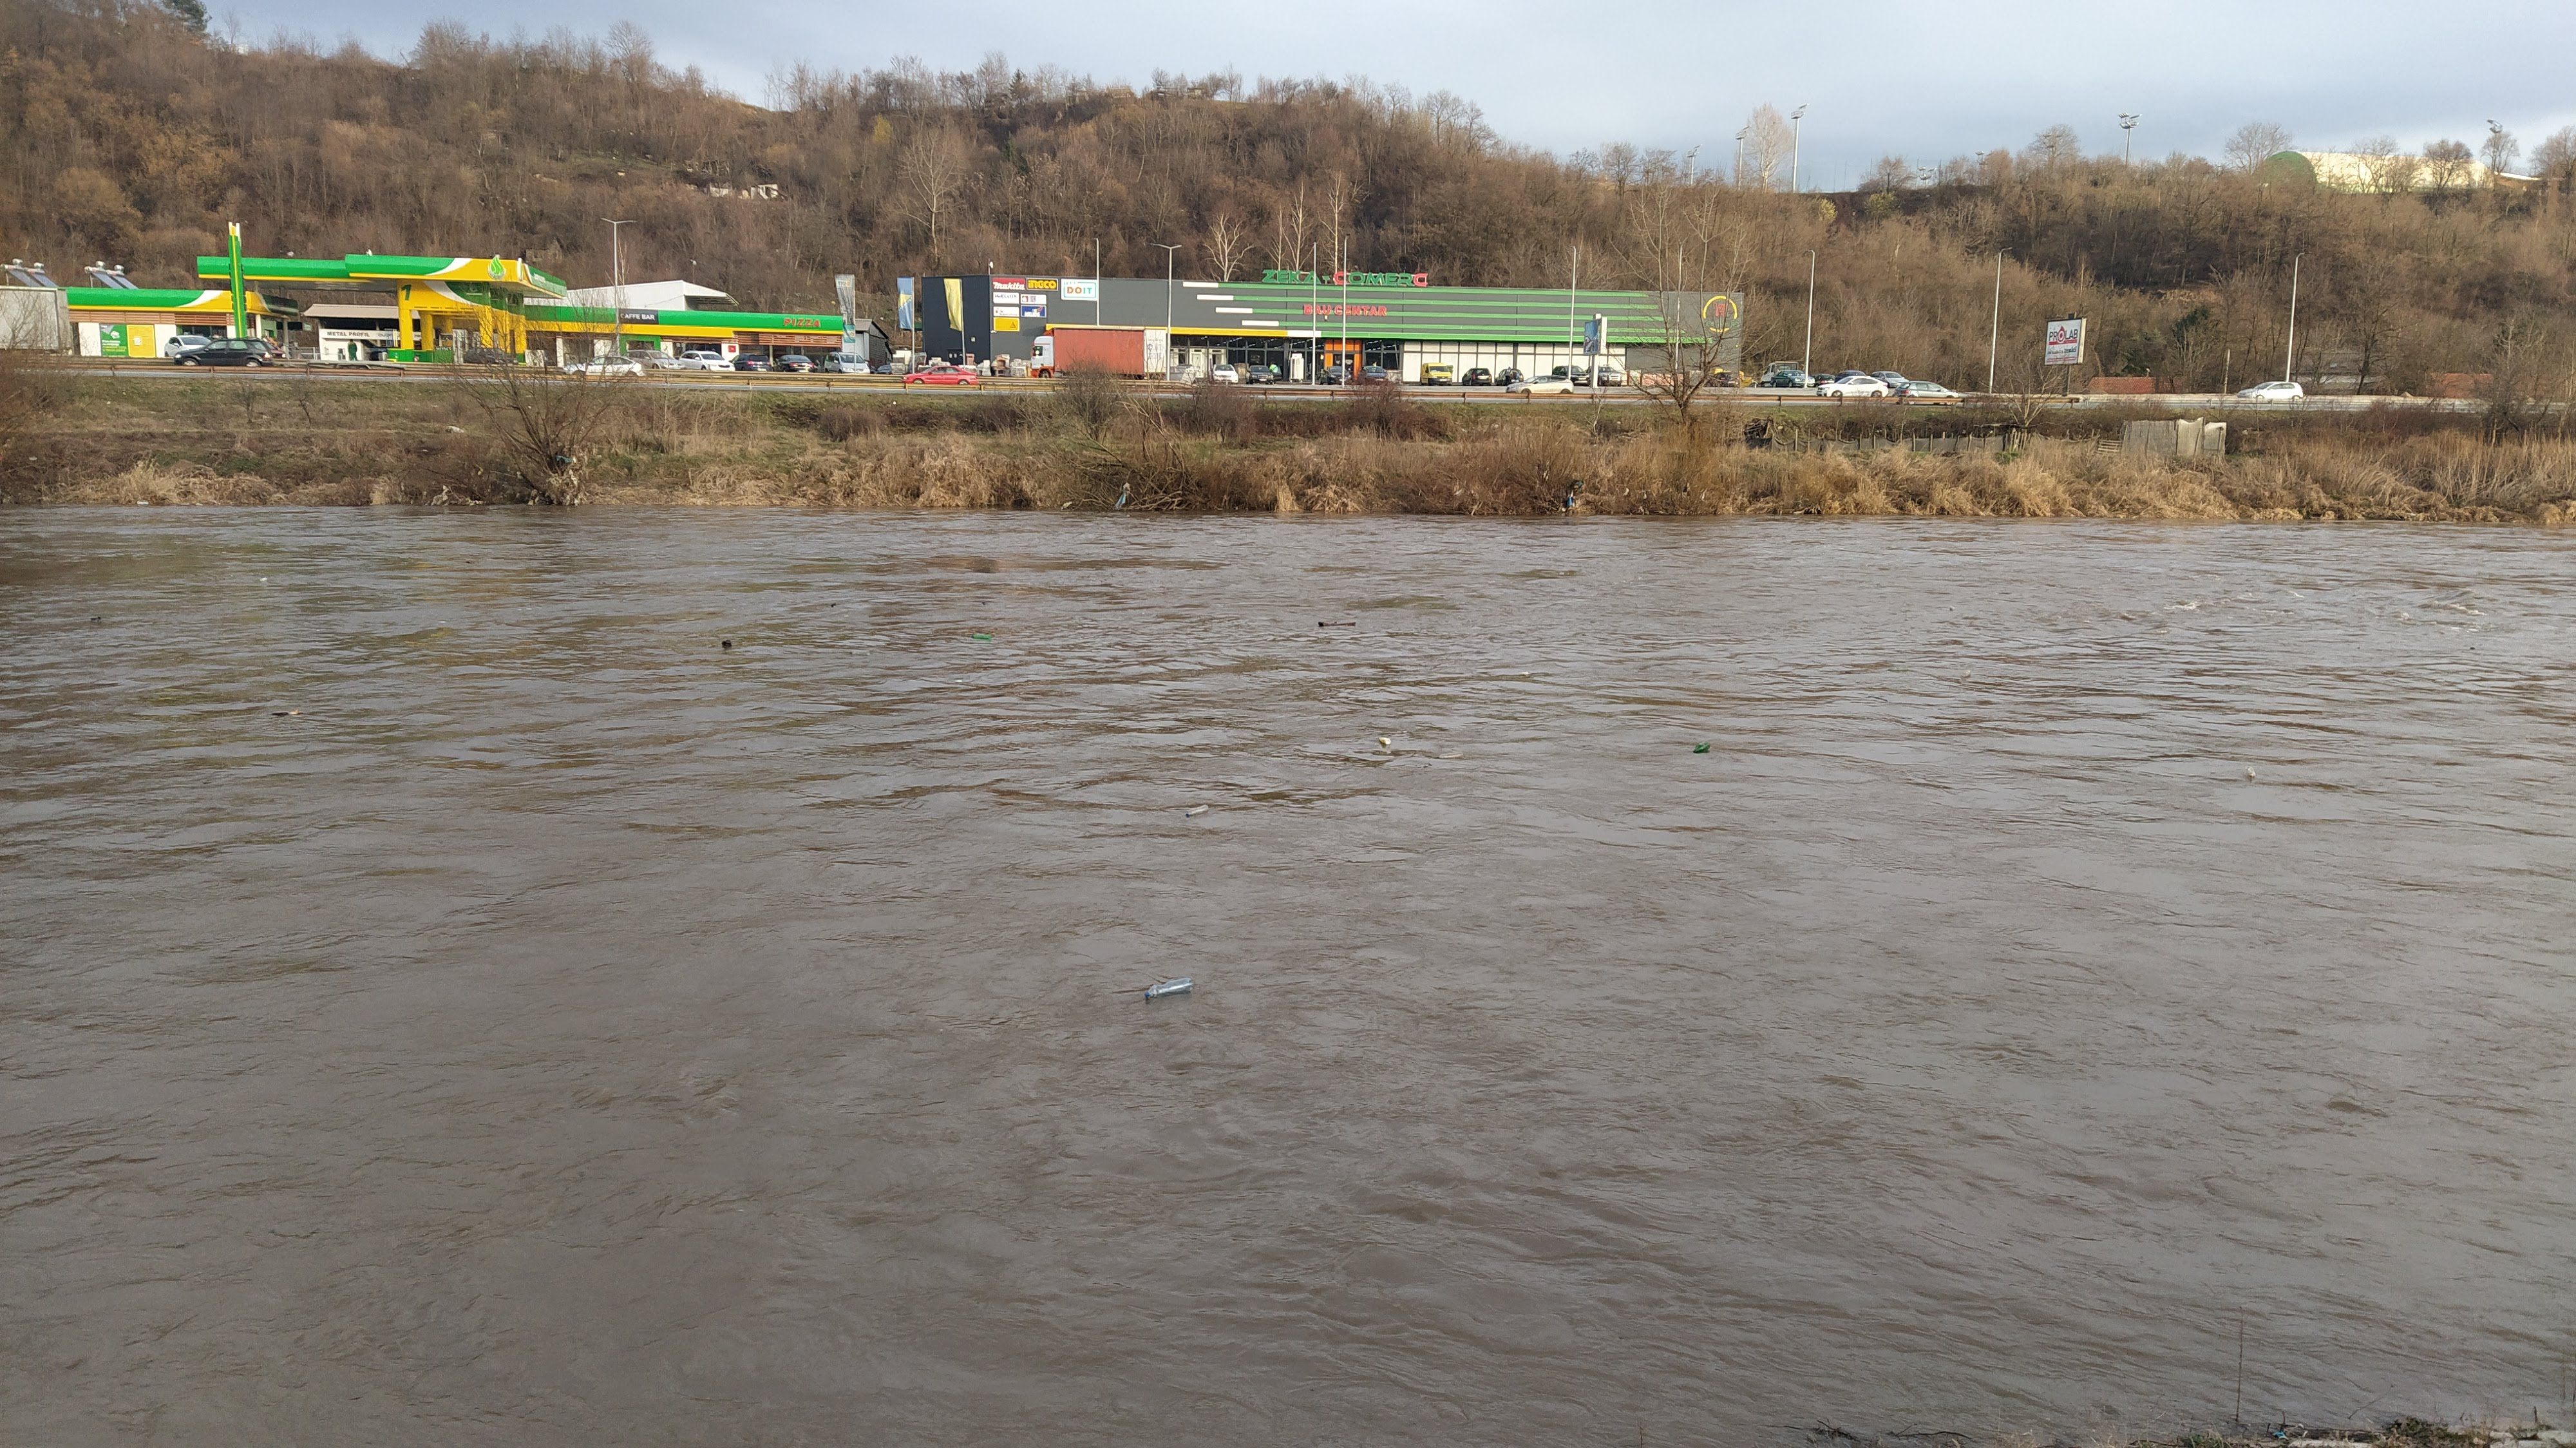Plastic Bottle: (1143, 977, 1192, 998), (1185, 804, 1208, 818), (1438, 751, 1463, 759), (1693, 742, 1709, 752), (1888, 666, 1907, 673), (971, 632, 989, 639), (1378, 736, 1391, 745), (849, 650, 869, 655), (2245, 765, 2254, 775), (272, 712, 288, 717), (1960, 669, 1971, 676), (722, 639, 731, 646), (138, 501, 149, 504), (260, 577, 265, 582)
